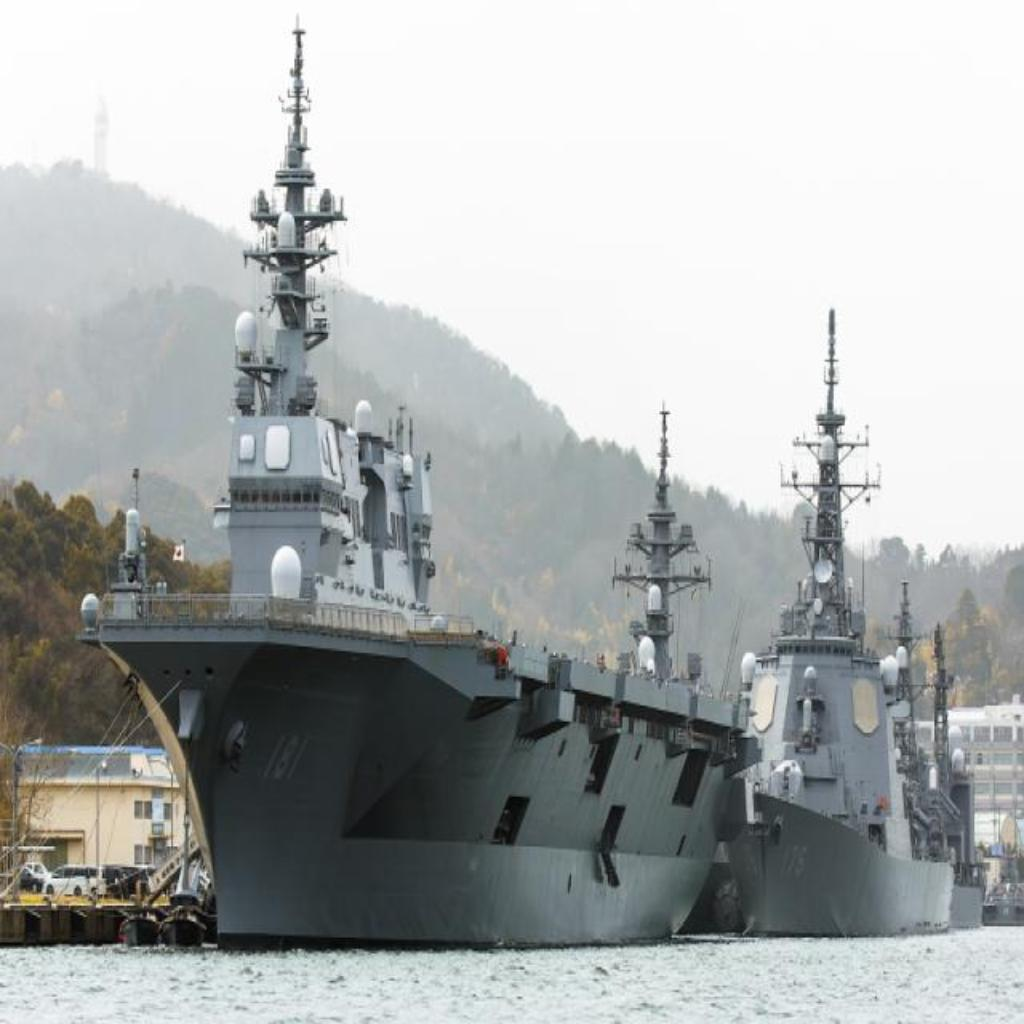Warship: (78, 8, 742, 956), (747, 304, 985, 934)
